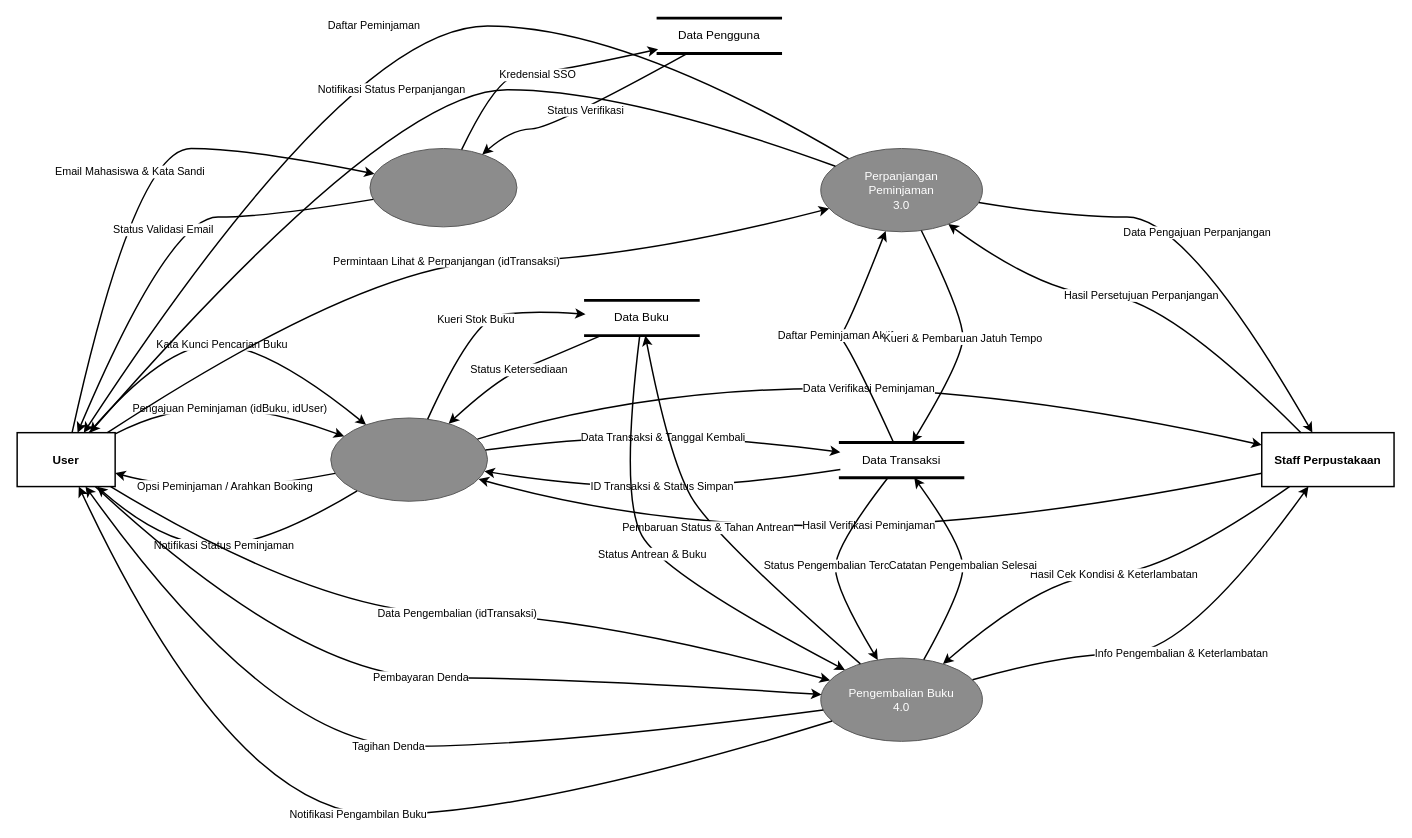
The diagram is 1412 pixels wide and 838 high, and some of its shapes have lost their labels. Each missing label, with the centre of its shape:
"Login SSO 1.0" goes at point (443, 187).
"Peminjaman Buku 2.0" goes at point (409, 459).
